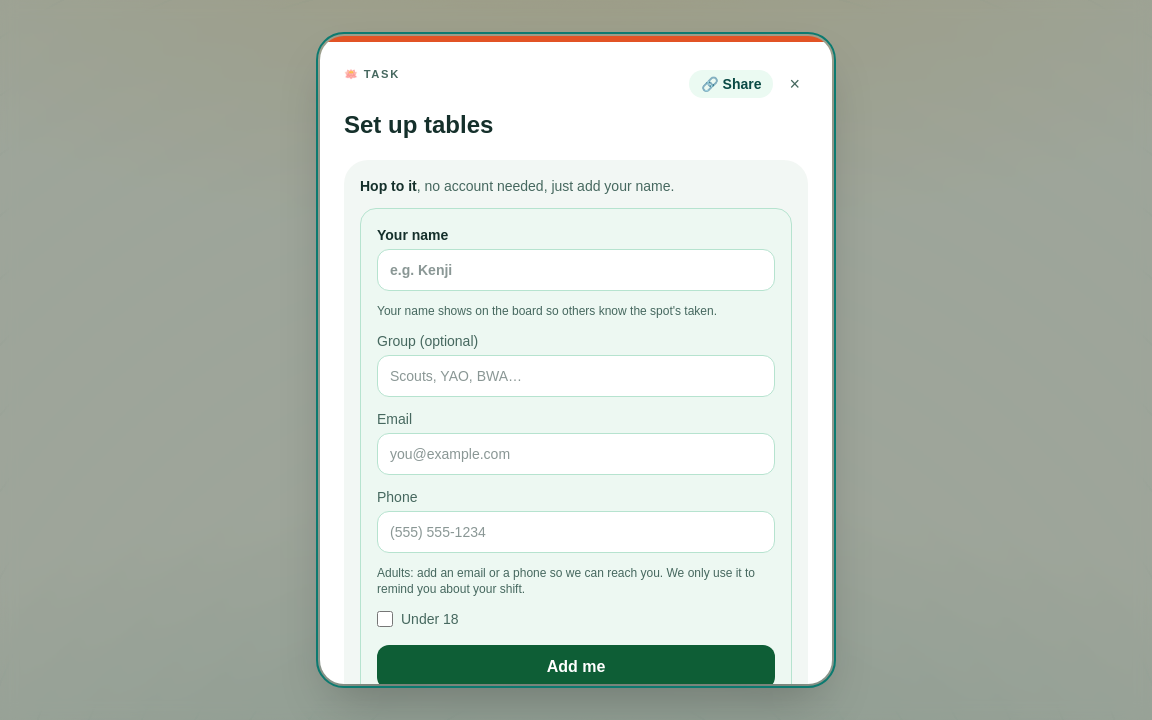
Test case: Share copies a link ending in the task fragment and flips to Copied
This screenshot has width=1152, height=720.
Click the button "🔗 Share" at (731, 84), box [689, 70, 774, 98]
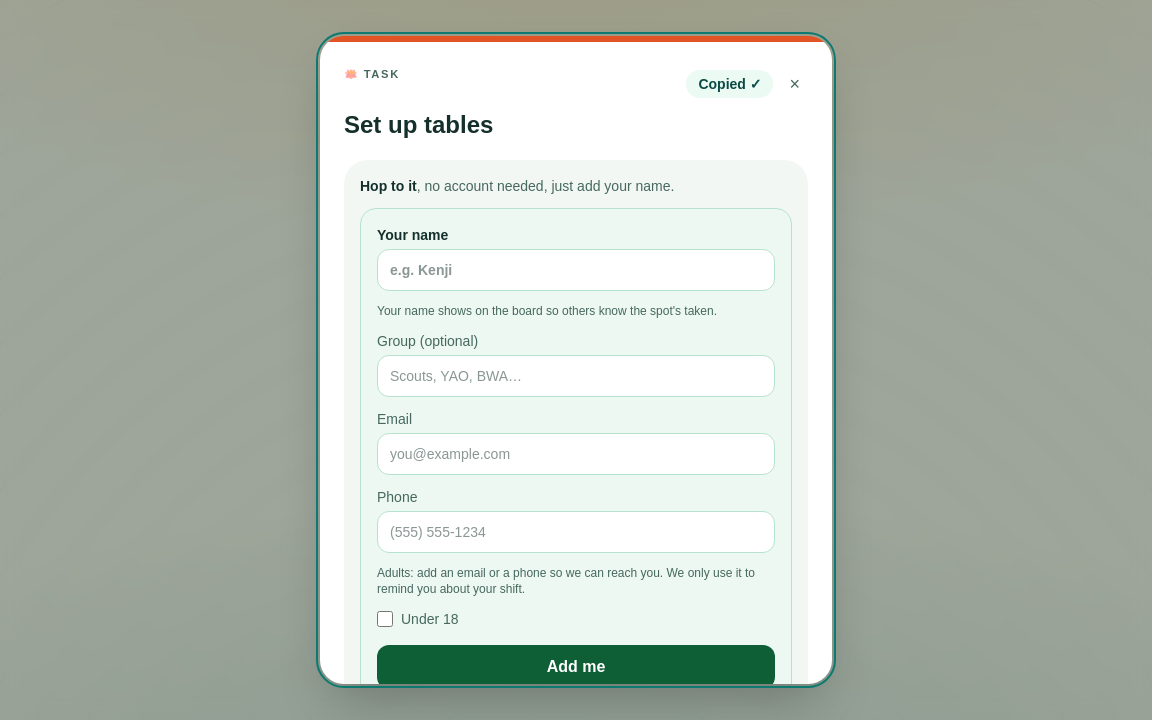
Expected: the button "Copied ✓" is shown, [686, 70, 774, 98]
